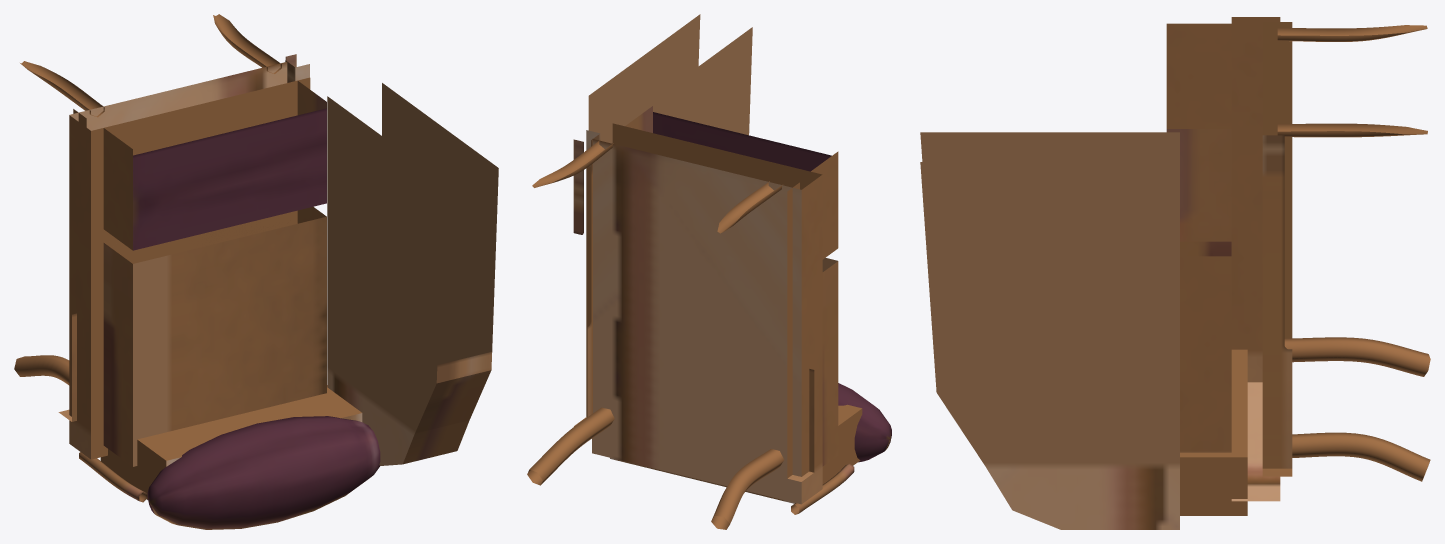
Rendered from section-7.obj.
3 views of the same model, side by side, from view 1: azimuth 30°, elevation 25°; view 2: azimuth 150°, elevation 25°; view 3: azimuth 270°, elevation 25° (orthographic). The views are drawn at different scales.
Bounding box in the file's own units: 0.702 × 0.9018 × 1.02.
